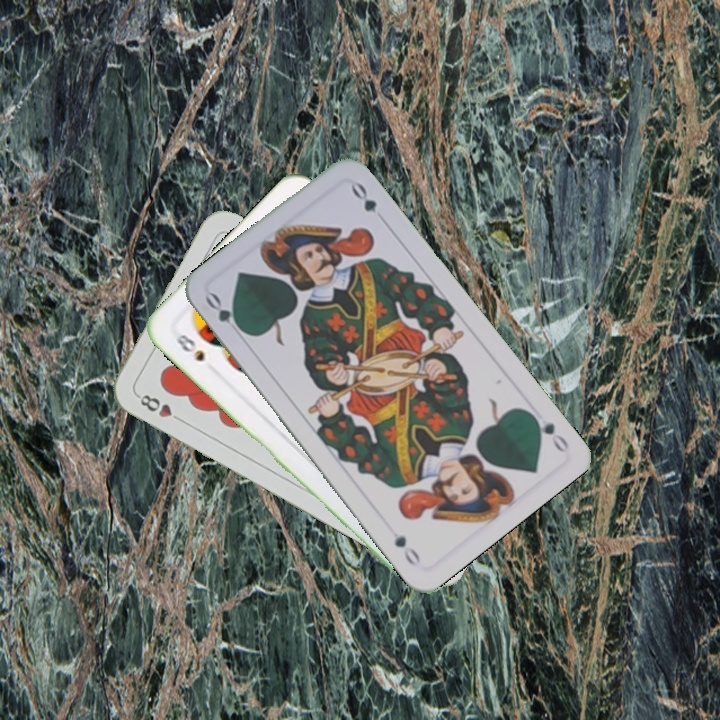GO: (201, 288, 249, 339), (524, 408, 572, 455)
H8: (133, 390, 187, 425)
S8: (168, 329, 207, 364)
